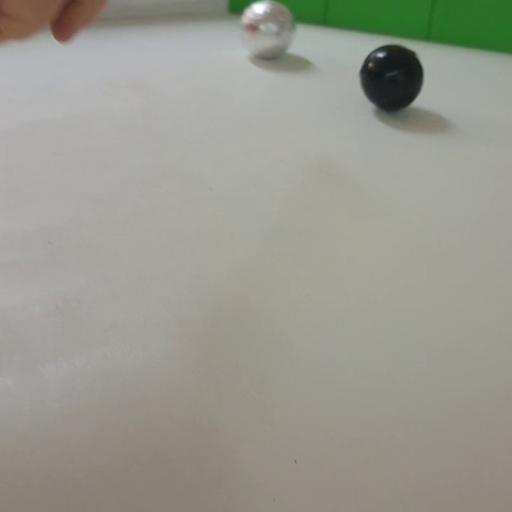alive: (239, 0, 293, 58)
dead: (360, 45, 423, 111)
